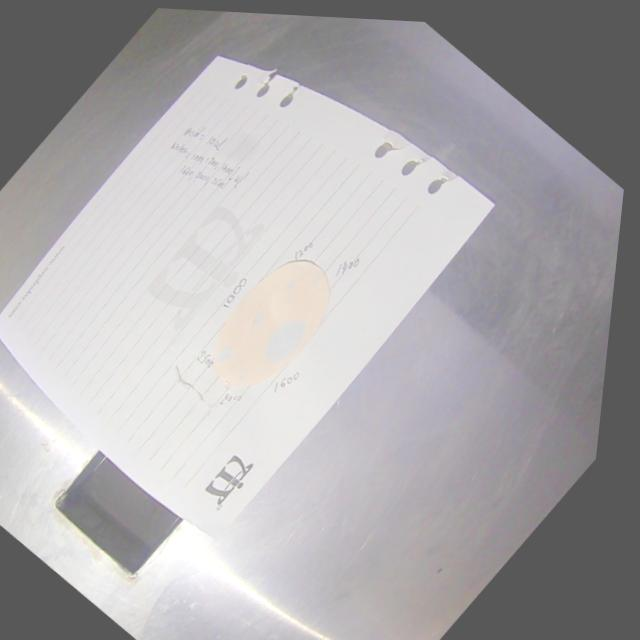BlueColor: (264, 318, 305, 363), (214, 345, 233, 364), (252, 311, 265, 325), (284, 281, 295, 291), (311, 276, 319, 286), (238, 371, 247, 379)
